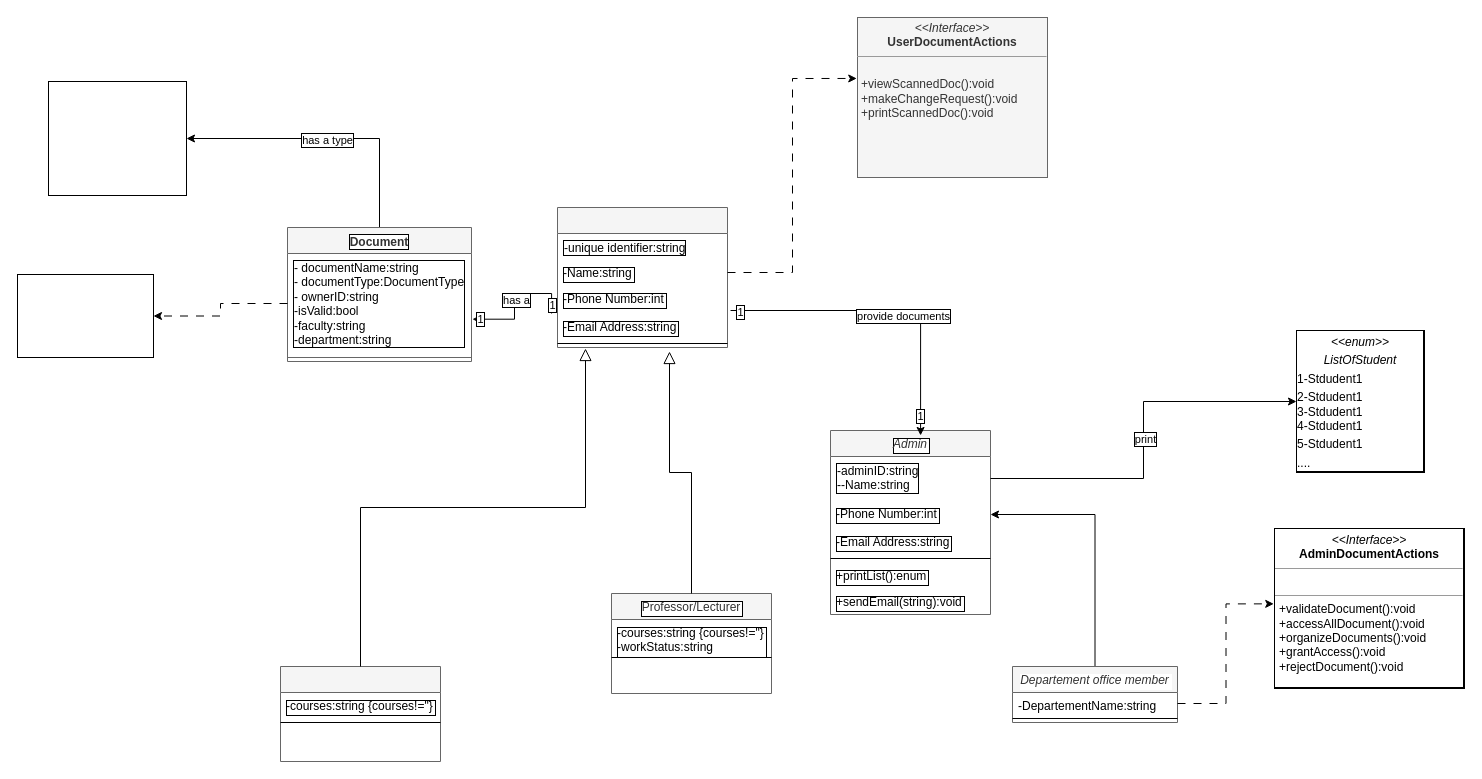
This 1482x779 diagram has some shape labels left out. The box of each missing label's shape, as (x1, y1, x2, y2) in pixels:
<< enum>> DocumentType -Docx -ppt -xls -pdf: (48, 80, 186, 196)
<<Interface>> DocumentActions +saveDocument() :void +deleteDocument():void: (16, 274, 154, 358)
Student: (280, 666, 440, 762)
User: (556, 206, 728, 348)
